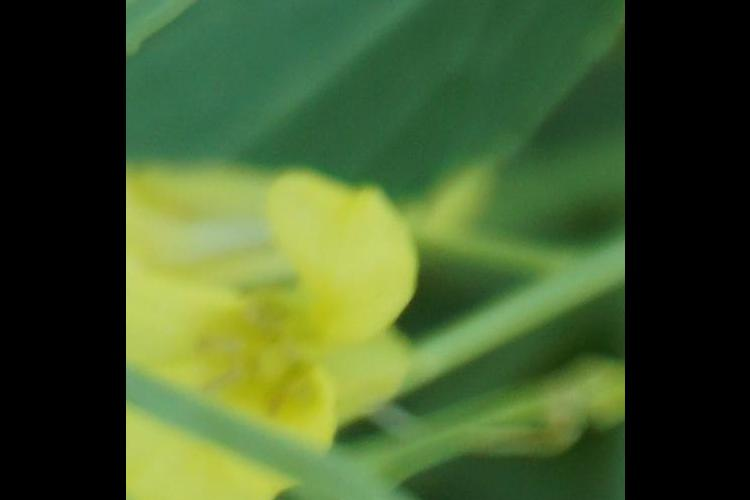yellow: (131, 149, 411, 500)
